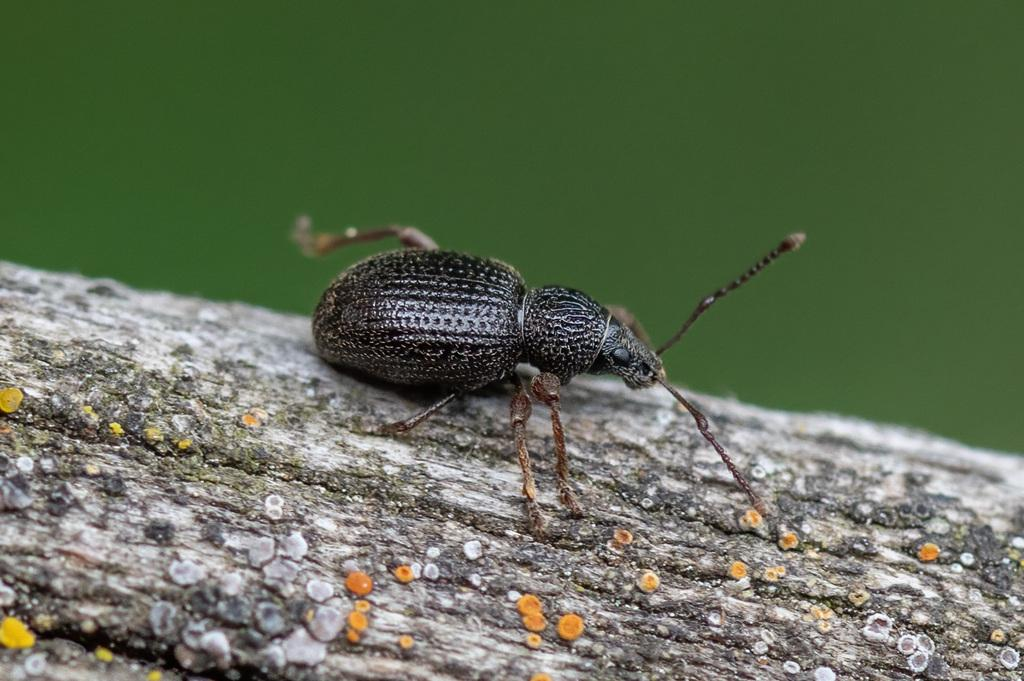weevils: (240, 166, 873, 588)
